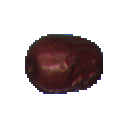gd: (21, 19, 116, 105)
